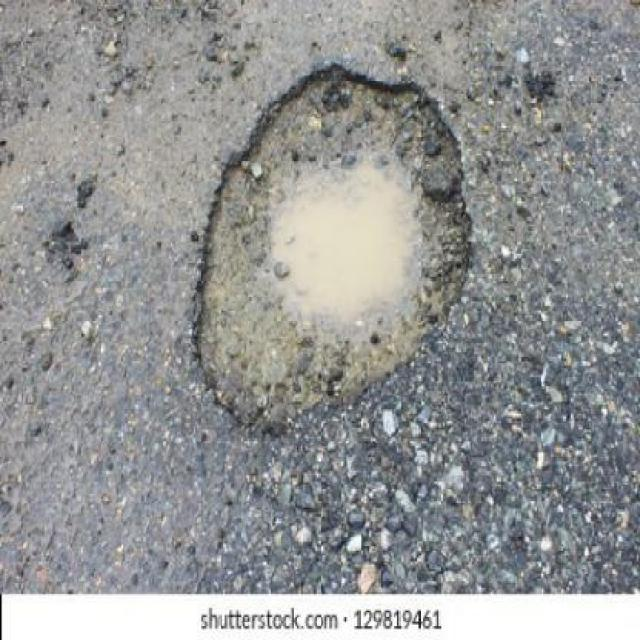Pothole: (186, 65, 480, 443)
